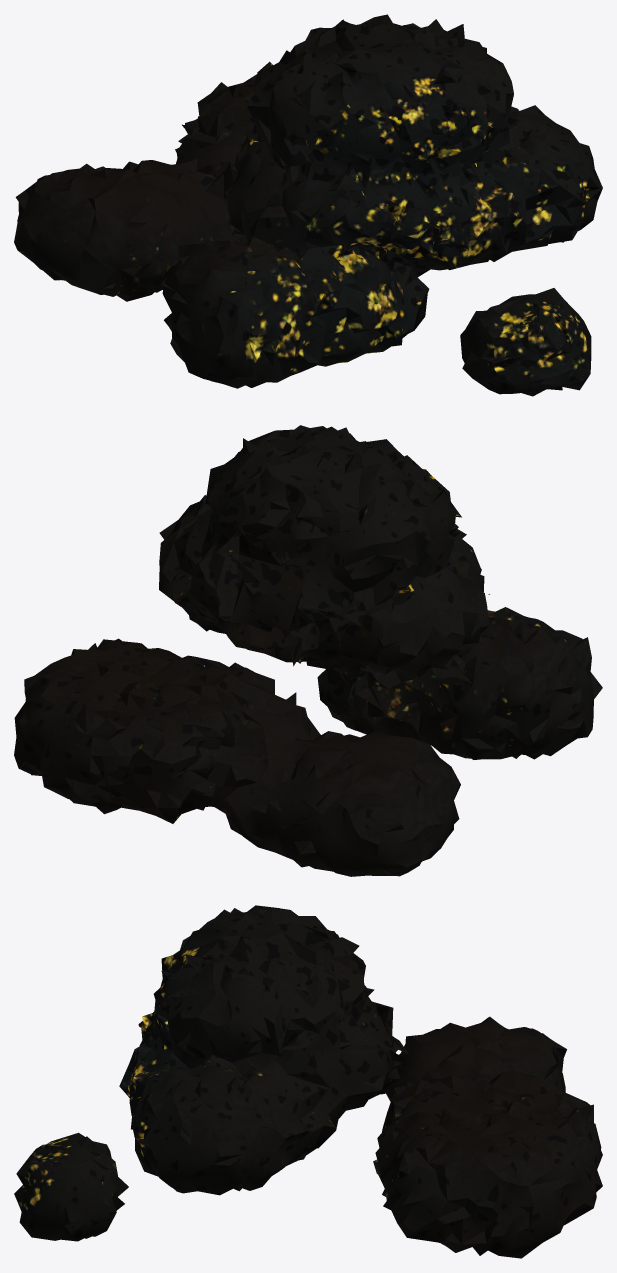
File: stylized-tree-clean_parts_web.glb
3 views of the same model, one above another, from view 1: azimuth 30°, elevation 25°; view 2: azimuth 150°, elevation 25°; view 3: azimuth 270°, elevation 25° (orthographic). The views are drawn at different scales.
Visible parts, largest first — view 1: part_00; view 2: part_00; view 3: part_00.
Boxes of the visible parts, box(x1,y1,x2,y2) form: part_00: box(14, 14, 602, 396); part_00: box(14, 425, 602, 876); part_00: box(14, 905, 602, 1258).
Bounding box in the file's own units: 1.51 × 1.05 × 1.95.
6 materials, 6 textured.
